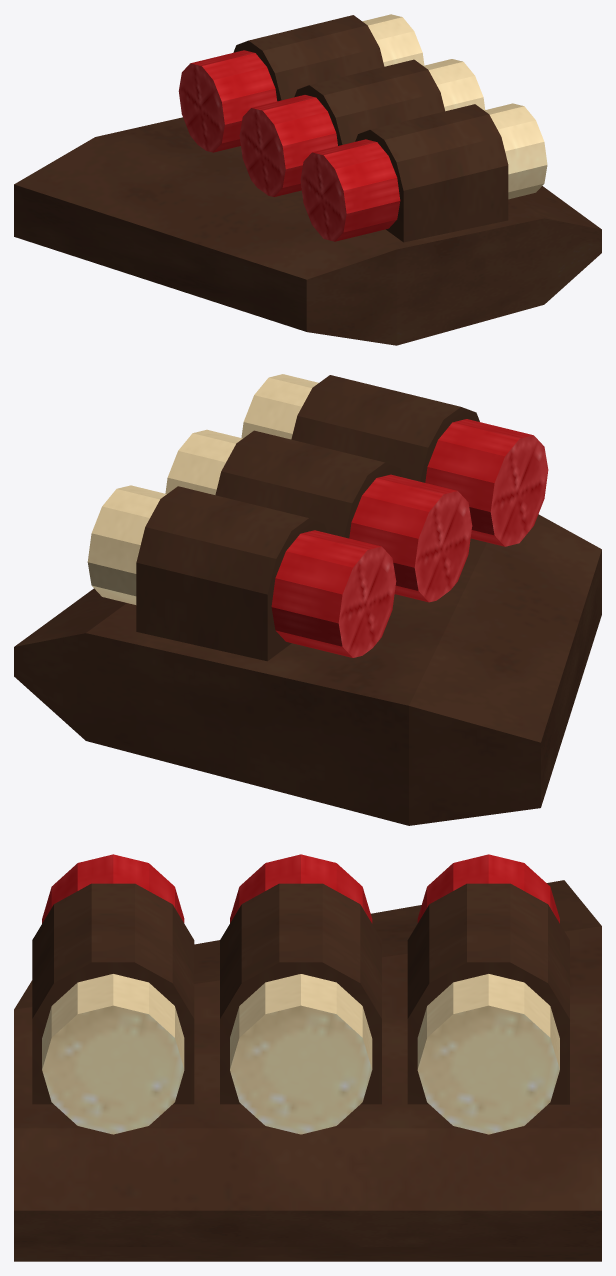
File: shellloop_ground.fbx
3 views of the same model, one above another, from view 1: azimuth 30°, elevation 25°; view 2: azimuth 150°, elevation 25°; view 3: azimuth 270°, elevation 25° (orthographic). The views are drawn at different scales.
Parts seen in each view (by area): view 1: shellloops_ground; view 2: shellloops_ground; view 3: shellloops_ground.
Boxes of the visible parts, left/top/right/bottom form: shellloops_ground: left=14, top=14, right=601, bottom=345; shellloops_ground: left=14, top=374, right=601, bottom=825; shellloops_ground: left=14, top=854, right=601, bottom=1261.
Size of the model in its own units: 0.0728 by 0.0313 by 0.0587.
